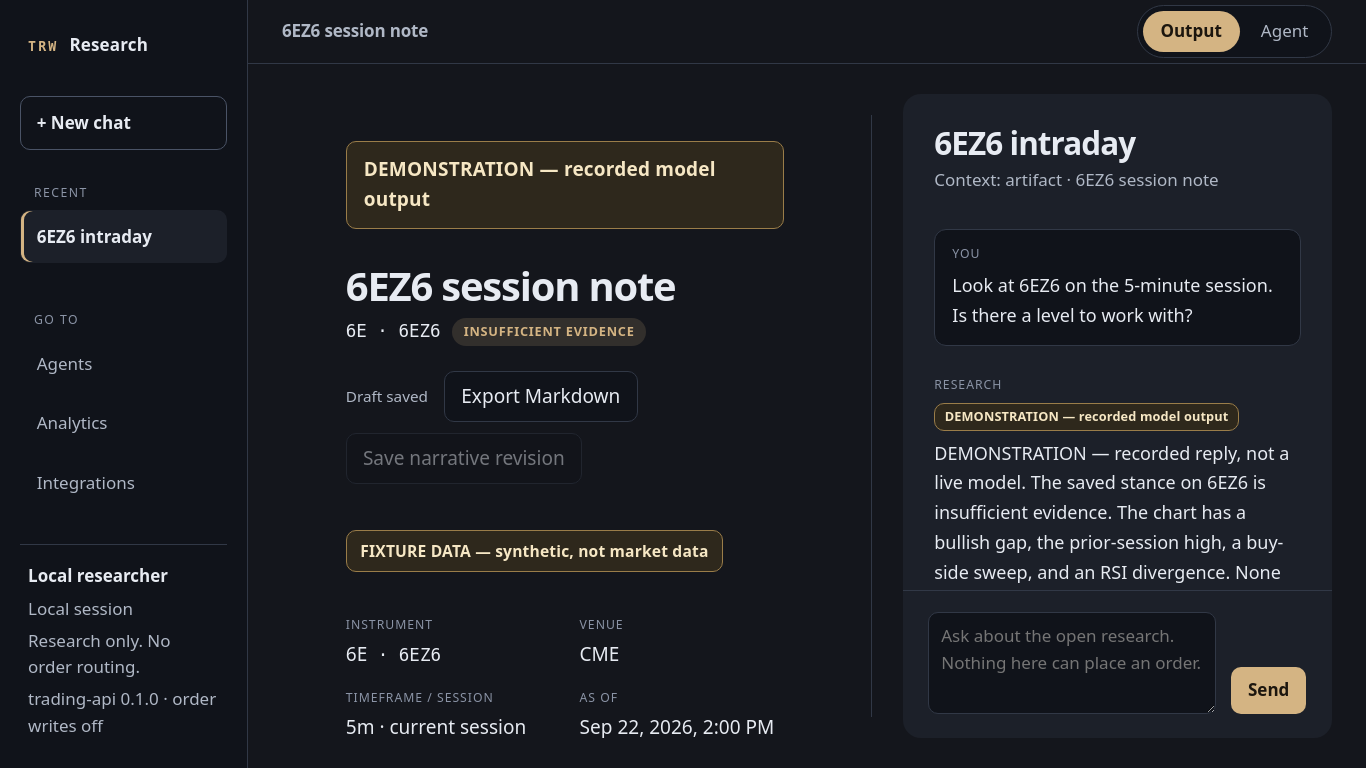
Test: conversation and artifact › keeps the open artifact when a new chat has no attachment
This screenshot has width=1366, height=768.
Check: the heading "6EZ6 session note" is shown, box left=346, top=263, right=676, bottom=309
Click the button "+ New chat": click(124, 123) left=20, top=96, right=227, bottom=150
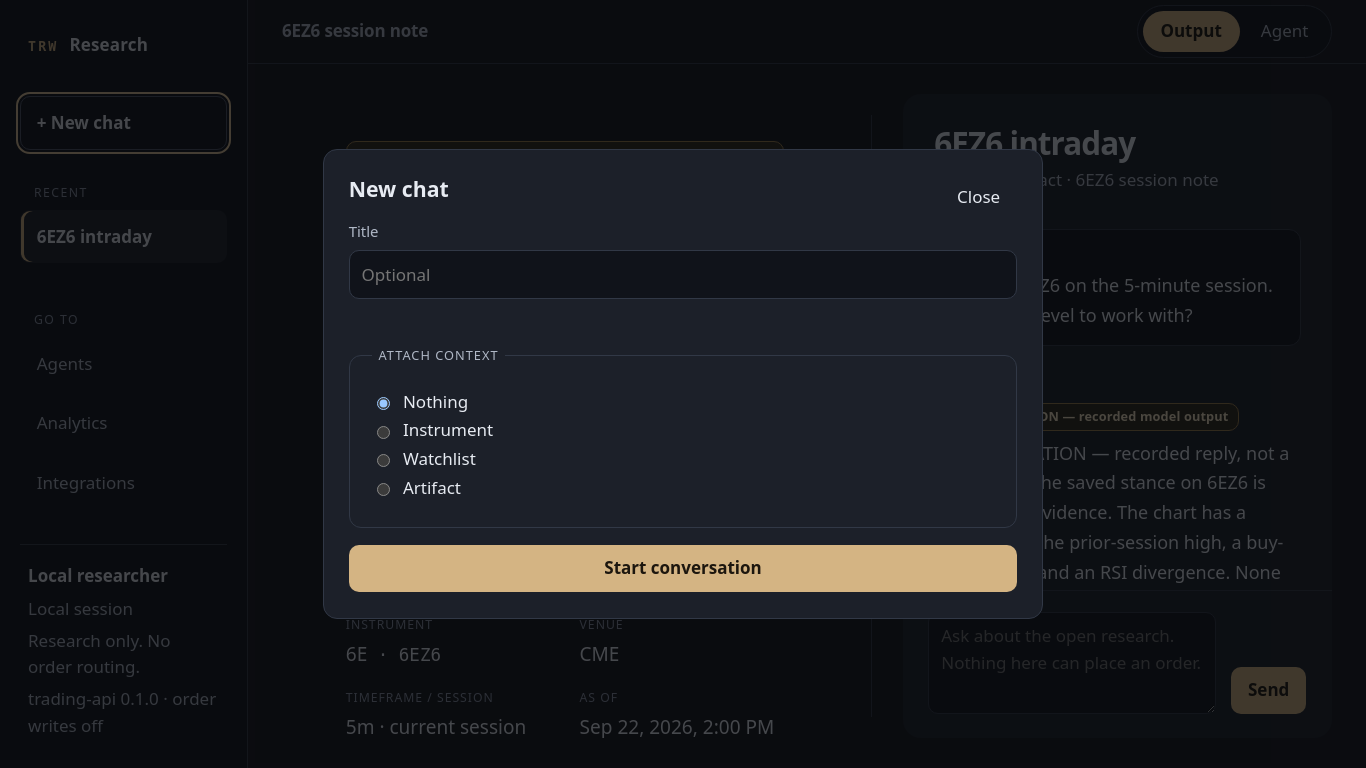
Click the button "Start conversation": click(683, 568) left=349, top=545, right=1017, bottom=592
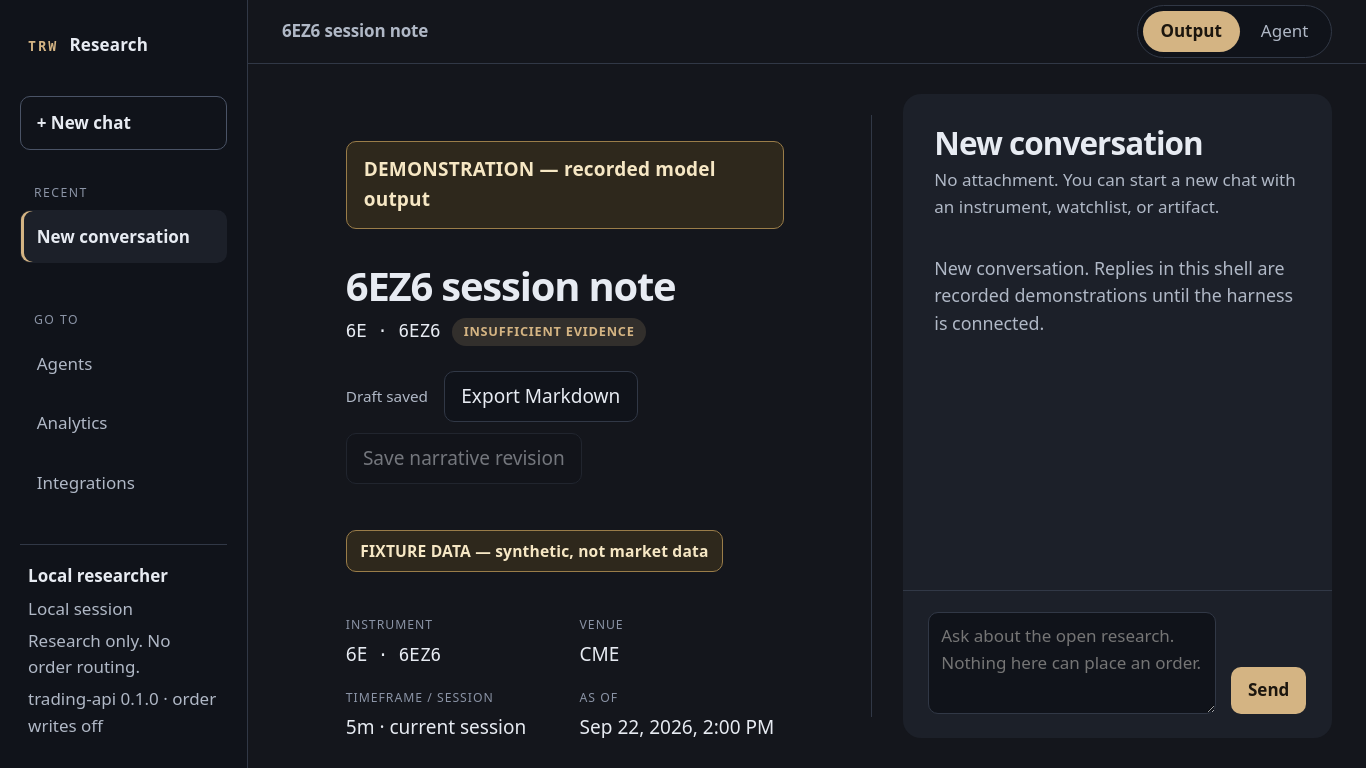
Check: the heading "6EZ6 session note" is shown, box left=346, top=263, right=676, bottom=309
Check: the text "No attachment" is shown, box left=934, top=168, right=1296, bottom=218
